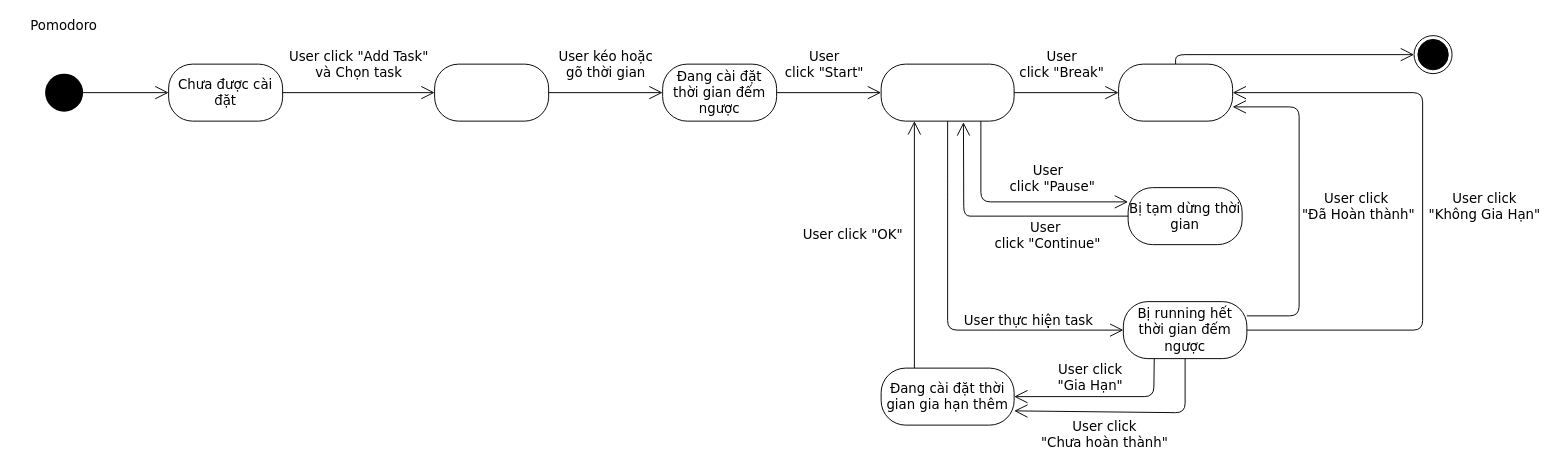
This 1562x469 diagram has some shape labels left out. Each missing label, with the centre of its shape:
"Bắt đầu được running thời gian" belongs at point 947,92.
"Đang cài đặt task" belongs at point 491,92.
"Đã hoàn tất" belongs at point 1175,92.
